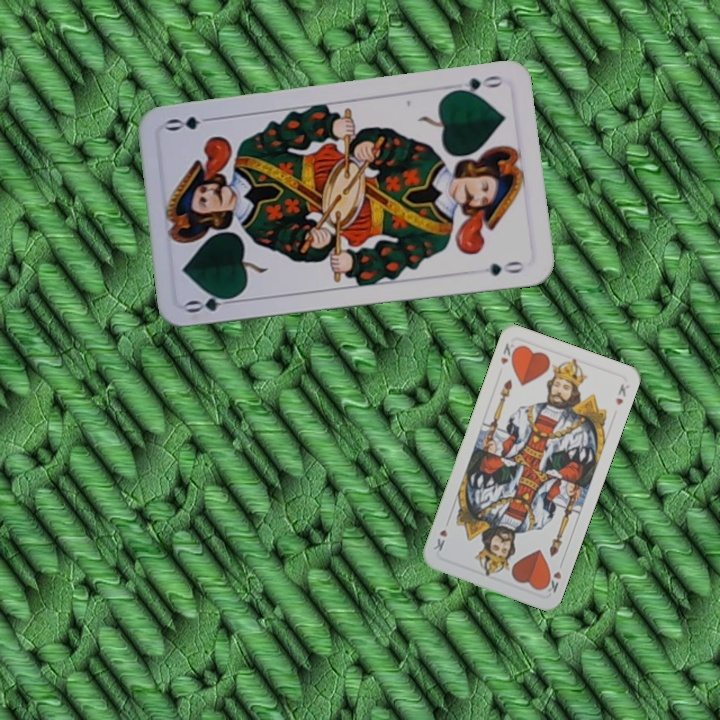GO: (447, 71, 506, 98), (182, 290, 241, 316)
HK: (496, 339, 520, 367), (540, 567, 564, 595)
